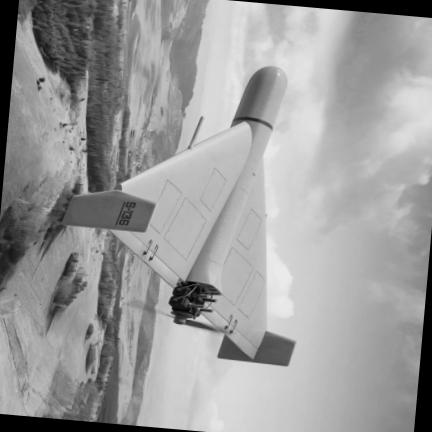Shahed: (64, 67, 293, 366)
